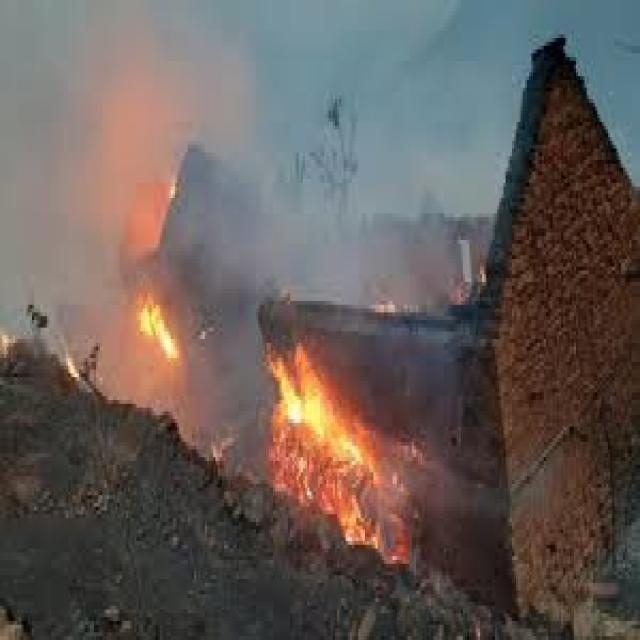Fire: (260, 327, 448, 589), (128, 282, 188, 388)
Smoke: (0, 0, 480, 244), (0, 0, 312, 299), (0, 0, 252, 365)
